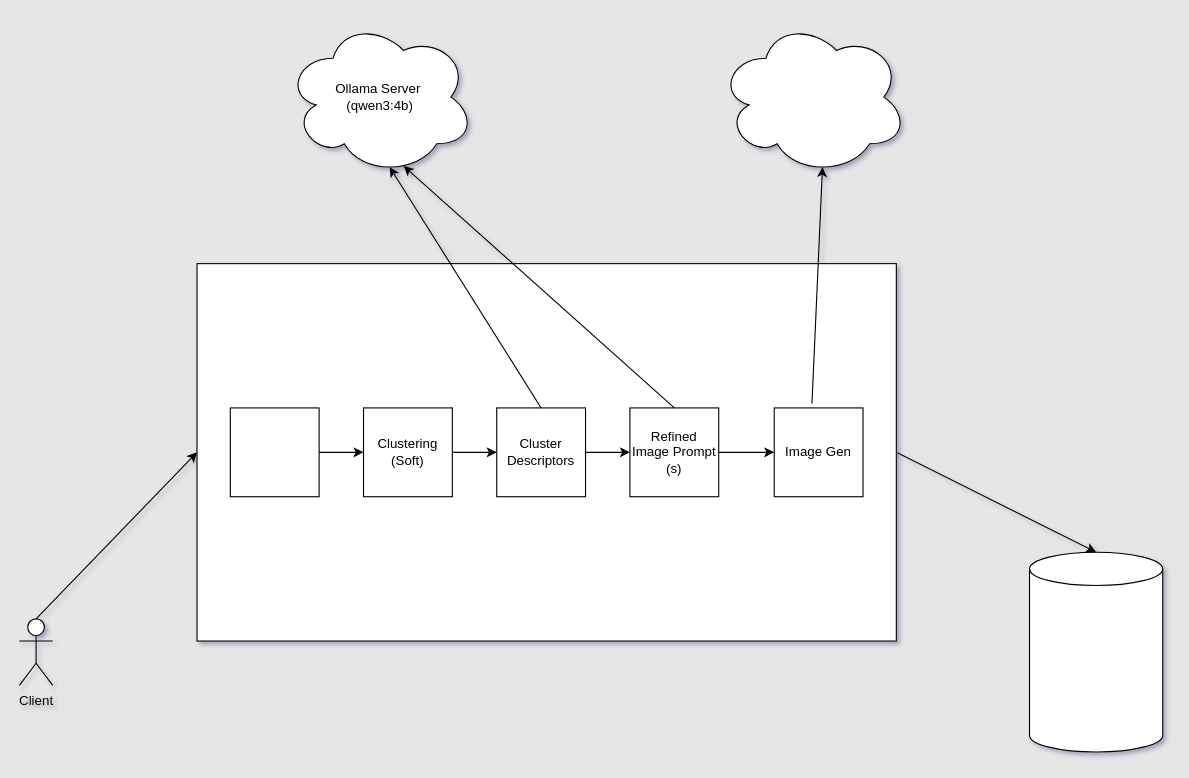
The diagram is 1189 pixels wide and 778 high, and some of its shapes have lost their labels. Each missing label, with the box of its shape:
ComfyUI Server (Flux1-Dev): (718, 18, 907, 175)
Image Output: (1028, 551, 1163, 752)
Sentence Encoding: (229, 407, 319, 497)
